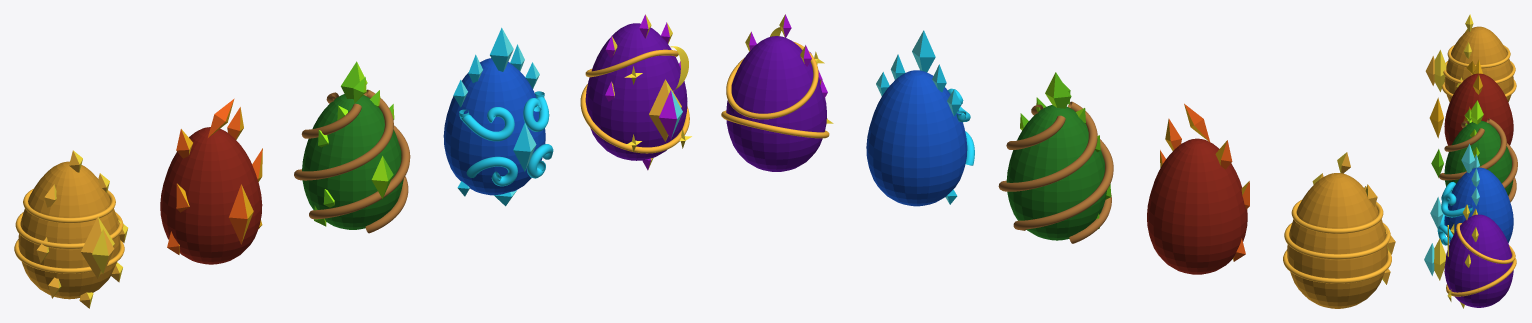
The model's file is Eggs6_Simple.fbx.
The picture shows the model from 3 angles, left to right: view 1: azimuth 30°, elevation 25°; view 2: azimuth 150°, elevation 25°; view 3: azimuth 270°, elevation 25°; orthographic projection. The views are drawn at different scales.
Parts seen in each view (by area): view 1: Fire Egg, Arcane Egg, Gold Egg, Forest Egg, Ice Egg, Living spiral vine.001, Living spiral vine, Living spiral vine.002, Arcane lower orbit, Ice curled scroll, Ice curled scroll.001, Fire heart (+13 smaller); view 2: Fire Egg, Ice Egg, Arcane Egg, Gold Egg, Forest Egg, Living spiral vine, Living spiral vine.002, Living spiral vine.001, Arcane upper orbit, Gold encircling band.001, Gold encircling band, Arcane lower orbit (+3 smaller); view 3: Arcane Egg, Fire Egg, Ice Egg, Gold Egg, Forest Egg, Living spiral vine.001, Living spiral vine, Arcane lower orbit, Arcane upper orbit, Ice curled scroll.002, Gold central gemstone setting, Arcane jewel gold setting (+20 smaller).
Boxes of the visible parts, x1,y1,x2,y2 form: Fire Egg: (160,127,262,264); Arcane Egg: (585,23,687,160); Gold Egg: (18,161,120,299); Forest Egg: (302,94,403,229); Ice Egg: (443,58,545,195); Living spiral vine.001: (309,92,410,219); Living spiral vine: (294,89,393,180); Living spiral vine.002: (301,103,408,233); Arcane lower orbit: (580,84,689,153); Ice curled scroll: (459,107,514,141); Ice curled scroll.001: (466,156,517,186); Fire heart: (229,184,253,244); Fire Egg: (1147,138,1247,274); Ice Egg: (866,70,967,206); Arcane Egg: (726,36,826,171); Gold Egg: (1287,173,1387,308); Forest Egg: (1006,105,1106,240); Living spiral vine: (1013,104,1113,230); Living spiral vine.002: (998,101,1097,191); Living spiral vine.001: (1006,115,1111,243); Arcane upper orbit: (726,41,818,119); Gold encircling band.001: (1284,223,1390,259); Gold encircling band: (1283,250,1391,283); Arcane lower orbit: (721,110,829,138); Arcane Egg: (1444,214,1513,307); Fire Egg: (1444,73,1513,145); Ice Egg: (1444,167,1513,242); Gold Egg: (1444,26,1513,101); Forest Egg: (1444,120,1513,195); Living spiral vine.001: (1439,118,1506,180); Living spiral vine: (1444,128,1516,202); Arcane lower orbit: (1446,258,1516,296); Arcane upper orbit: (1456,223,1515,263); Ice curled scroll.002: (1441,193,1472,217); Gold central gemstone setting: (1434,50,1446,91); Arcane jewel gold setting: (1434,238,1445,280).
Bounding box in the file's own units: 1590 × 404 × 287.
